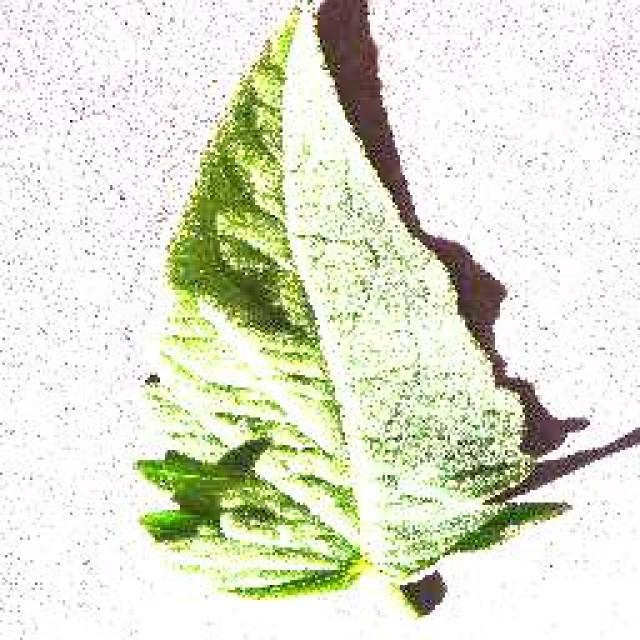Tomato___healthy: (120, 0, 580, 631)
